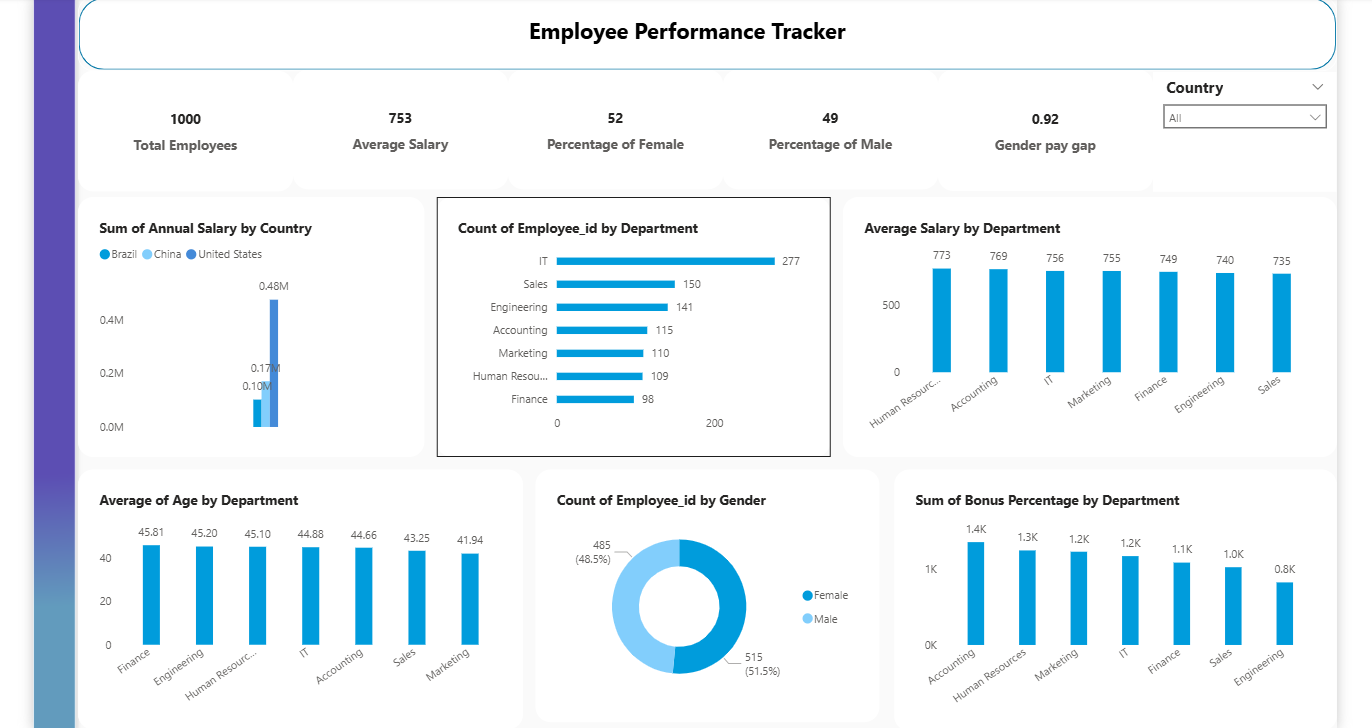

What the dashboard file says about the page in this screenshot:
{"tool":"powerbi","page":{"name":"Page 1","canvas":[1280,720],"ordinal":0},"visuals":[{"type":"card","fields":{"Values":["employee employeedetails.Total Employees"]},"box":[44.2,72.4,211,118],"z":0},{"type":"card","fields":{"Values":["employee employeesalary.Average Salary"]},"box":[255.2,71.2,211,117.8],"z":1000},{"type":"card","fields":{"Values":["employee employeedetails.female%"]},"box":[466.3,71.2,211,117.8],"z":2000},{"type":"card","fields":{"Values":["employee employeedetails.Male%"]},"box":[677.3,71.2,211,117.8],"z":3000},{"type":"card","fields":{"Values":["employee employeesalary.Gender pay gap"]},"box":[888.3,71.2,211,119],"z":4000},{"type":"clusteredBarChart","fields":{"Y":["CountNonNull(employee employeedetails.Employee_id)"],"Category":["employee employeedetails.Department"]},"box":[396.3,196.3,386.5,255.2],"z":5000},{"type":"donutChart","fields":{"Category":["employee employeedetails.Gender"],"Y":["CountNonNull(employee employeedetails.Employee_id)"]},"box":[493.3,463.8,337.4,247.9],"z":6000},{"type":"clusteredColumnChart","title":"Sum of Annual Salary by Country","fields":{"Series":["employee employeelocation.Country"],"Y":["Sum(employee employeesalary.Annual_salary)"]},"box":[44.2,196.3,339.9,255.2],"z":7000},{"type":"shape","box":[43.9,0,1236,72.7],"z":8000},{"type":"textbox","box":[481,12.3,435.6,42.9],"z":9000},{"type":"slicer","fields":{"Values":["employee employeelocation.Country","employee employeedetails.Department","employee employeedetails.Gender"]},"box":[1099.4,73.6,180.4,117.8],"z":10000},{"type":"clusteredColumnChart","fields":{"Y":["employee employeesalary.Average Salary"],"Category":["employee employeesalary.Department"]},"box":[795.1,196.3,484.7,255.2],"z":11000},{"type":"columnChart","title":"Sum of Bonus Percentage by Department","fields":{"Y":["Sum(employee employeesalary.Bonus_percentage)"],"Category":["employee employeesalary.Department"]},"box":[845.4,463.8,434.4,256.4],"z":12000},{"type":"clusteredColumnChart","fields":{"Y":["Avg(employee employeedetails.Age)"],"Category":["employee employeedetails.Department"]},"box":[44.2,463.8,436.8,255.2],"z":13000}]}

Visuals, with their boxes on the page's 1280x720 design canvas (x1, y1, x2, y2). These are canvas units, not pixel positions in the 1372x728 screenshot, which may show the page scaled, cropped or inside an application window:
card - employee employeedetails.Total Employees: box(44, 72, 255, 190)
card - employee employeesalary.Average Salary: box(255, 71, 466, 189)
card - employee employeedetails.female%: box(466, 71, 677, 189)
card - employee employeedetails.Male%: box(677, 71, 888, 189)
card - employee employeesalary.Gender pay gap: box(888, 71, 1099, 190)
clusteredBarChart - CountNonNull(employee employeedetails.Employee_id) x employee employeedetails.Department: box(396, 196, 783, 452)
donutChart - employee employeedetails.Gender x CountNonNull(employee employeedetails.Employee_id): box(493, 464, 831, 712)
"Sum of Annual Salary by Country" clusteredColumnChart: box(44, 196, 384, 452)
shape: box(44, 0, 1280, 73)
textbox: box(481, 12, 917, 55)
slicer - employee employeelocation.Country x employee employeedetails.Department: box(1099, 74, 1280, 191)
clusteredColumnChart - employee employeesalary.Average Salary x employee employeesalary.Department: box(795, 196, 1280, 452)
"Sum of Bonus Percentage by Department" columnChart: box(845, 464, 1280, 720)
clusteredColumnChart - Avg(employee employeedetails.Age) x employee employeedetails.Department: box(44, 464, 481, 719)
